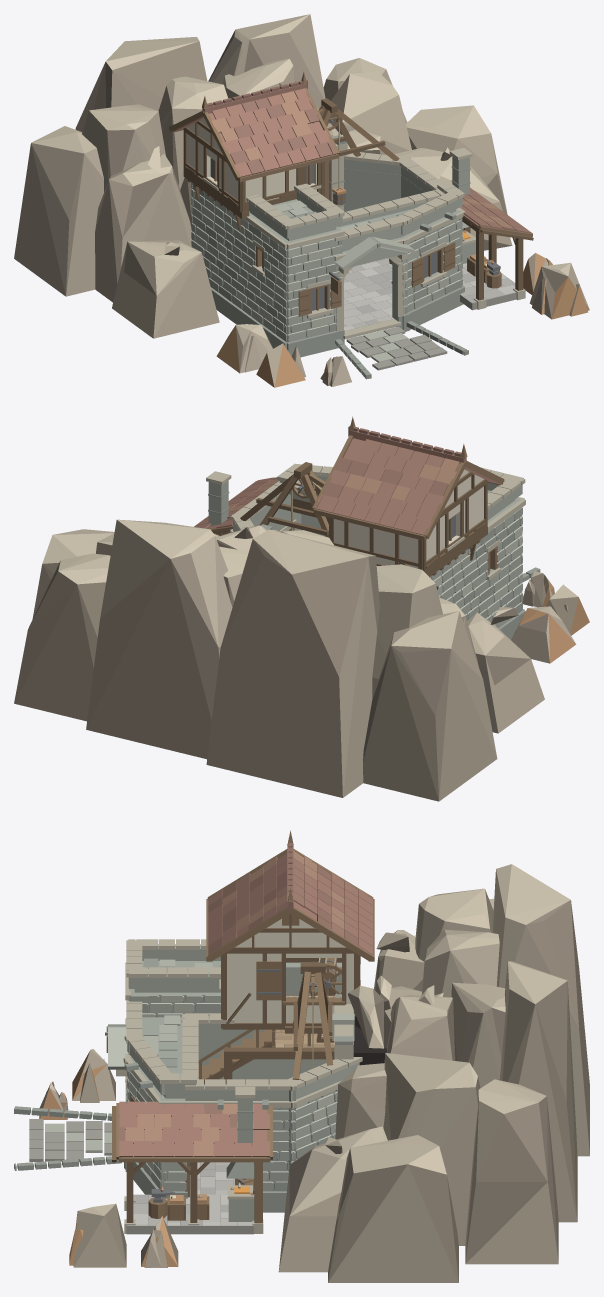
Rendered from quarry.glb.
The picture shows the model from 3 angles, top to bottom: view 1: azimuth 30°, elevation 25°; view 2: azimuth 150°, elevation 25°; view 3: azimuth 270°, elevation 25°; orthographic projection. The views are drawn at different scales.
Visible parts, largest first — view 1: Quarry_RockMain, Quarry_ShellMain, Quarry_RoofMain, Quarry_OreRockMain, Quarry_UpperShellMain, Quarry_FloorMainTiles, Quarry_FloorApproachMain, Quarry_FurnishingMain, Quarry_FloorLeanToMainTiles, Quarry_StepMain, Quarry_GlazingMain; view 2: Quarry_RockMain, Quarry_RoofMain, Quarry_ShellMain, Quarry_UpperShellMain, Quarry_OreRockMain; view 3: Quarry_RockMain, Quarry_RoofMain, Quarry_ShellMain, Quarry_UpperShellMain, Quarry_OreRockMain, Quarry_FurnishingMain, Quarry_FloorApproachMain, Quarry_FloorLeanToMainTiles, Quarry_FloorLeanToMain, Quarry_FloorMainTiles, Quarry_StairTreads, Quarry_ServiceShaft_Mouth (+1 smaller).
Boxes of the visible parts, x1=… form: Quarry_RockMain: x1=14, y1=14, x2=512, y2=338; Quarry_ShellMain: x1=191, y1=135, x2=533, y2=357; Quarry_RoofMain: x1=169, y1=72, x2=532, y2=274; Quarry_OreRockMain: x1=216, y1=253, x2=589, y2=387; Quarry_UpperShellMain: x1=183, y1=127, x2=324, y2=230; Quarry_FloorMainTiles: x1=344, y1=258, x2=393, y2=330; Quarry_FloorApproachMain: x1=346, y1=326, x2=447, y2=370; Quarry_FurnishingMain: x1=331, y1=120, x2=501, y2=379; Quarry_FloorLeanToMainTiles: x1=460, y1=263, x2=516, y2=303; Quarry_StepMain: x1=343, y1=319, x2=401, y2=339; Quarry_GlazingMain: x1=312, y1=251, x2=437, y2=310; Quarry_RockMain: x1=14, y1=519, x2=544, y2=801; Quarry_RoofMain: x1=194, y1=416, x2=525, y2=540; Quarry_ShellMain: x1=206, y1=471, x2=525, y2=639; Quarry_UpperShellMain: x1=329, y1=479, x2=487, y2=577; Quarry_OreRockMain: x1=511, y1=571, x2=589, y2=663; Quarry_RockMain: x1=278, y1=864, x2=589, y2=1282; Quarry_RoofMain: x1=106, y1=830, x2=374, y2=1162; Quarry_ShellMain: x1=105, y1=962, x2=354, y2=1233; Quarry_UpperShellMain: x1=219, y1=947, x2=360, y2=1029; Quarry_OreRockMain: x1=39, y1=1049, x2=178, y2=1267; Quarry_FurnishingMain: x1=14, y1=990, x2=313, y2=1221; Quarry_FloorApproachMain: x1=29, y1=1119, x2=111, y2=1161; Quarry_FloorLeanToMainTiles: x1=127, y1=1194, x2=253, y2=1225; Quarry_FloorLeanToMain: x1=126, y1=1225, x2=253, y2=1234; Quarry_FloorMainTiles: x1=190, y1=1162, x2=234, y2=1194; Quarry_StairTreads: x1=198, y1=1029, x2=271, y2=1079; Quarry_ServiceShaft_Mouth: x1=353, y1=1016, x2=386, y2=1065.
Size of the model in its own units: 18 by 9.37 by 18.47.
